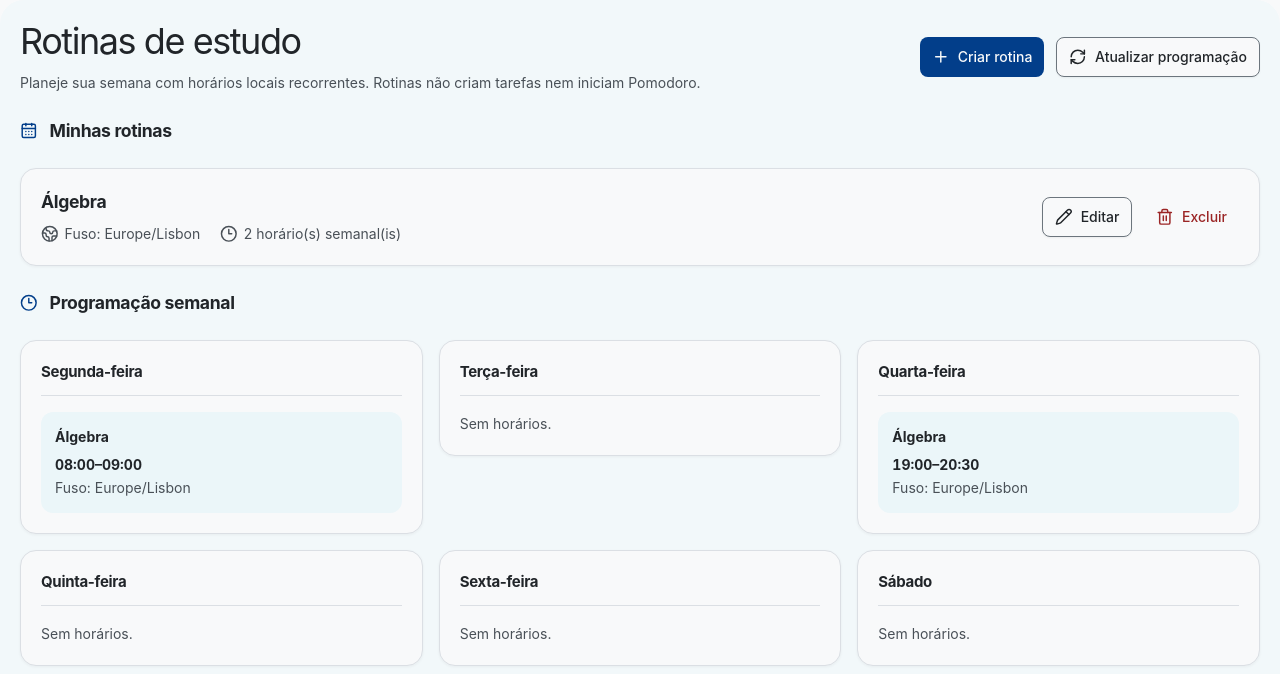
Test: edits saved local times and displays routine zones without device conversion
The image size is (1280, 674).
Check: the text "08:00–09:00" is shown, box [55, 456, 142, 473]
Check: the text "Fuso: Europe/Lisbon" below "08:00" is shown, box [55, 479, 191, 496]
Click the button with aria-label "Editar Álgebra": (1087, 217) [1042, 197, 1132, 237]
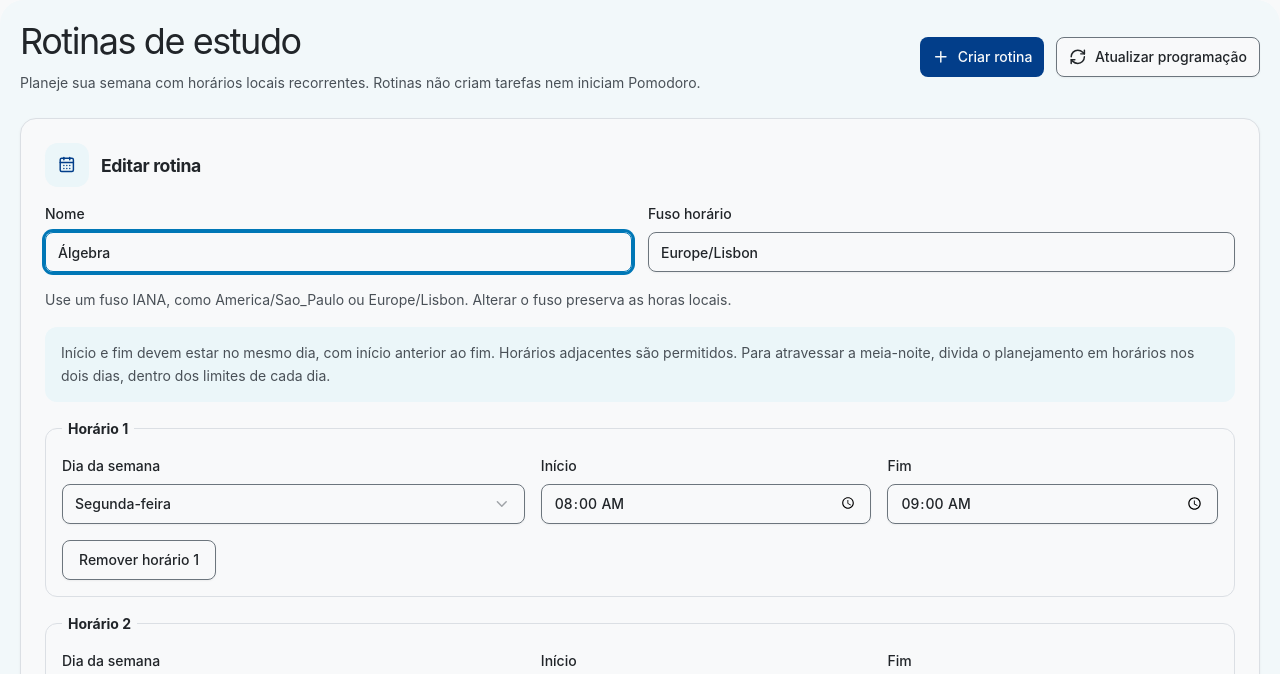
Check: the field labelled "Nome" is shown, box [45, 232, 632, 272]
Replace the text in the field labelled "Fuso horário" with "Asia/Tokyo": (942, 252) [648, 232, 1235, 272]
(page scrolled)
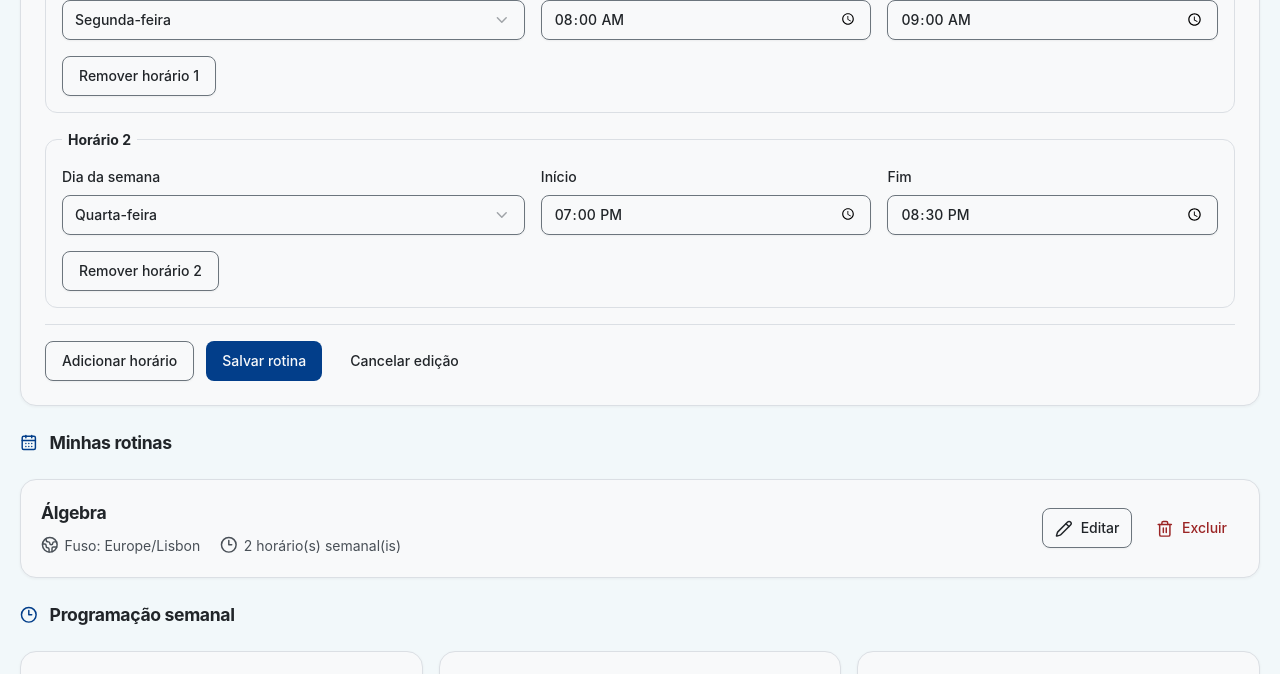
Click the button "Salvar rotina": (264, 361) [206, 341, 322, 381]
(page scrolled)
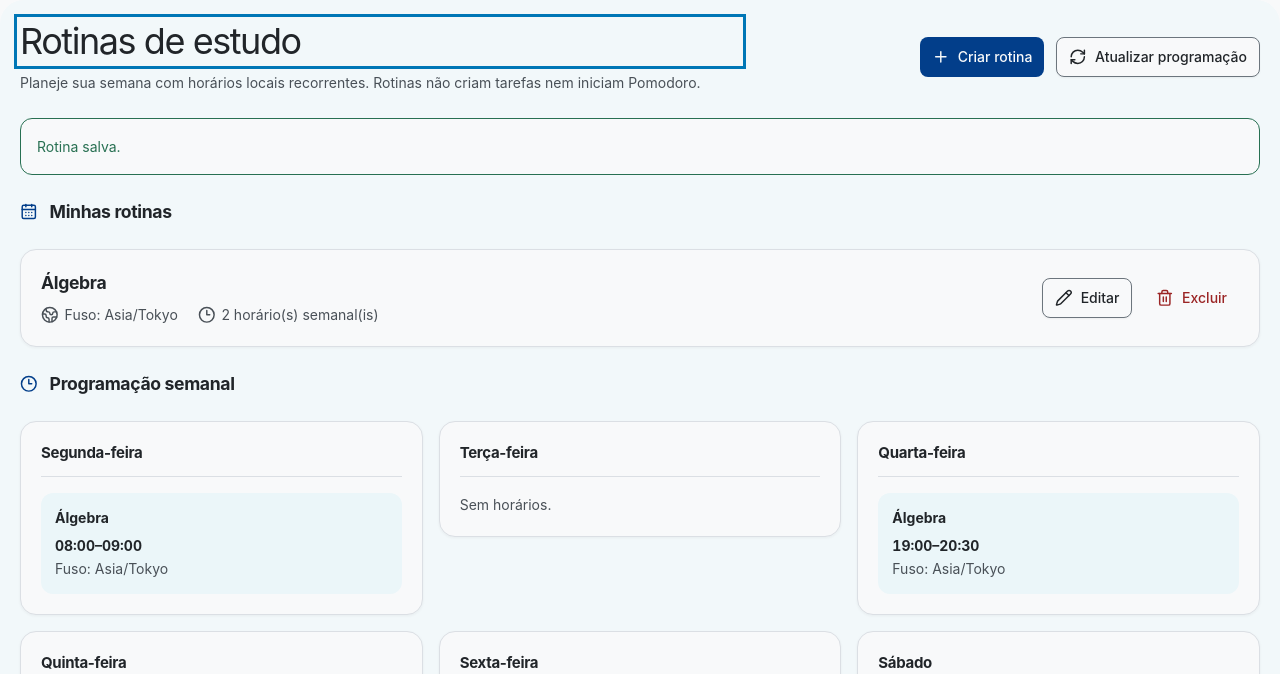
Check: the text "08:00–09:00" is shown, box [55, 537, 142, 554]
Check: the text "Rotina salva." is shown, box [20, 118, 1260, 175]
